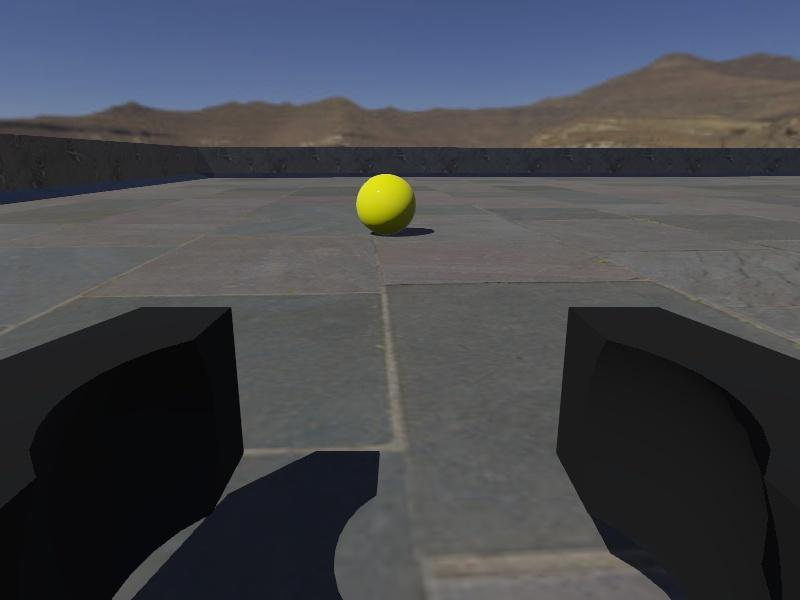yellow ball: (357, 173, 418, 236)
